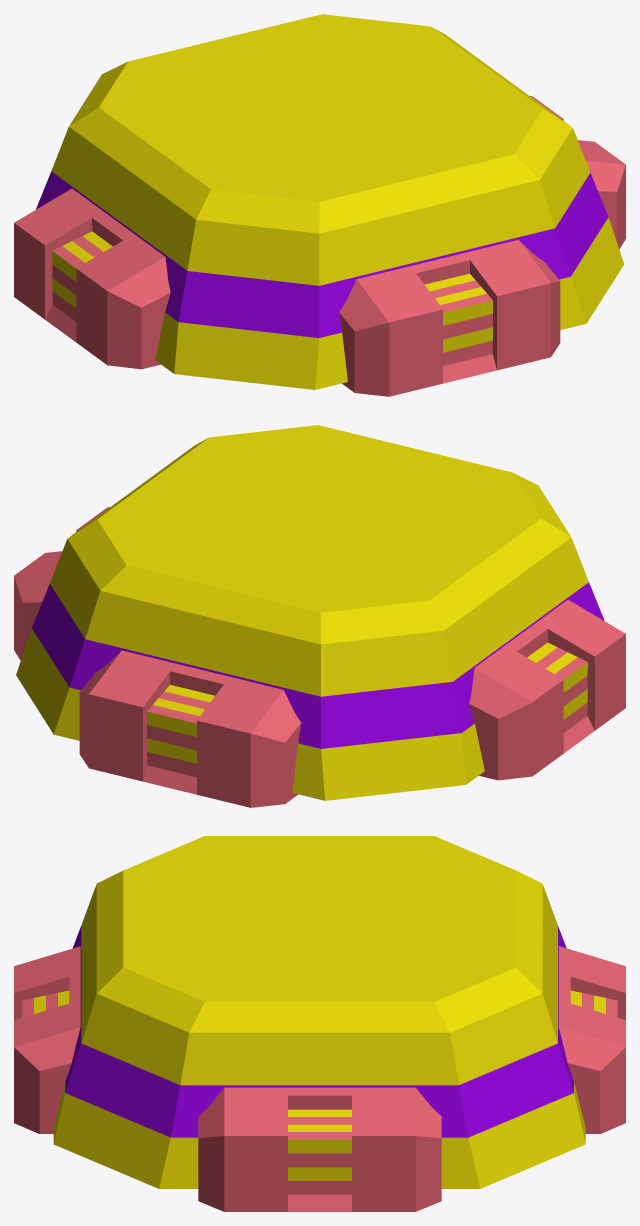
The model's file is platform-square.fbx.
3 views of the same model, one above another, from view 1: azimuth 30°, elevation 25°; view 2: azimuth 150°, elevation 25°; view 3: azimuth 270°, elevation 25° (orthographic). The views are drawn at different scales.
Visible parts, largest first — view 1: platform-square; view 2: platform-square; view 3: platform-square.
Boxes of the visible parts, left/top/right/bottom form: platform-square: left=14, top=14, right=625, bottom=396; platform-square: left=14, top=425, right=625, bottom=807; platform-square: left=14, top=836, right=625, bottom=1211.
Bounding box in the file's own units: 4.58 × 1.35 × 4.57.
